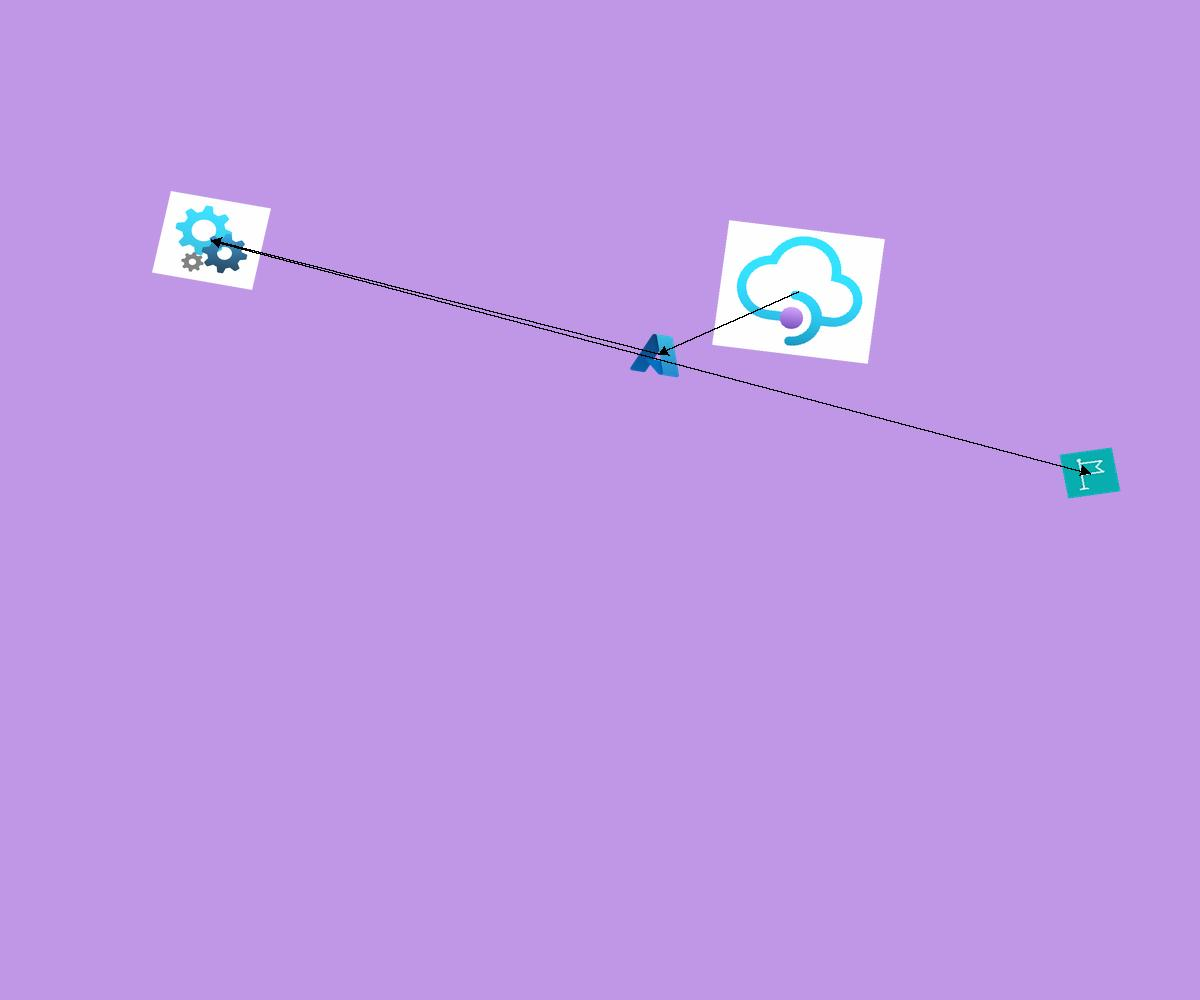AWS-Region: (1059, 447, 1121, 499)
Azure_api: (152, 191, 271, 290)
Azure_api_gateway: (712, 220, 885, 364)
Azure_services: (627, 328, 690, 381)
